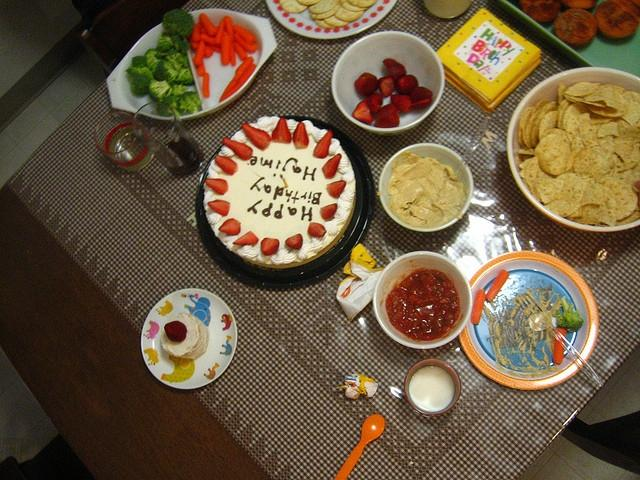broccoli: (552, 300, 584, 332), (125, 65, 154, 97), (132, 48, 162, 78), (162, 9, 194, 37), (153, 60, 180, 82), (156, 93, 180, 117), (178, 91, 202, 114), (148, 79, 172, 102), (164, 50, 184, 72), (174, 66, 194, 85), (156, 36, 173, 54), (174, 40, 190, 56), (154, 48, 173, 60), (172, 84, 188, 96), (178, 55, 189, 67)
carrot: (486, 270, 510, 302), (552, 326, 566, 364), (471, 289, 485, 324), (232, 25, 255, 45), (199, 13, 217, 36), (238, 64, 256, 86), (220, 35, 232, 65), (223, 15, 235, 44), (236, 57, 254, 76), (192, 40, 205, 66), (233, 42, 247, 61), (214, 20, 224, 46), (202, 72, 210, 99), (192, 23, 202, 43), (200, 33, 216, 45), (196, 60, 206, 76), (229, 44, 236, 66)
strawberry: (242, 123, 272, 149), (222, 137, 253, 161), (373, 103, 401, 128), (354, 72, 378, 96), (409, 86, 433, 110), (312, 130, 332, 158), (164, 320, 187, 342), (214, 154, 238, 175), (292, 122, 310, 149), (384, 58, 406, 80), (352, 100, 374, 122), (396, 74, 418, 95), (322, 154, 341, 178), (378, 74, 397, 98), (272, 118, 290, 143), (218, 218, 241, 236), (366, 93, 384, 116), (391, 93, 412, 112), (232, 230, 260, 244), (205, 178, 228, 195), (207, 200, 230, 216), (260, 238, 279, 256), (328, 180, 346, 199), (307, 222, 326, 238), (320, 204, 338, 220), (286, 234, 302, 250)
